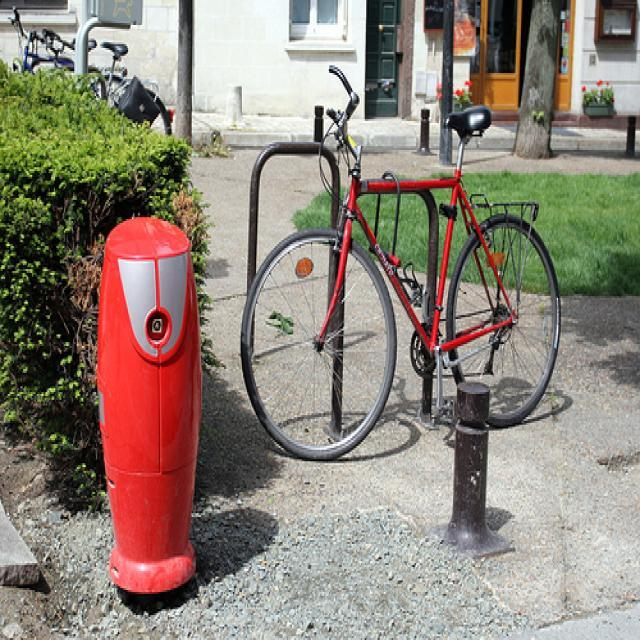fire_hydrant: (95, 215, 205, 596)
